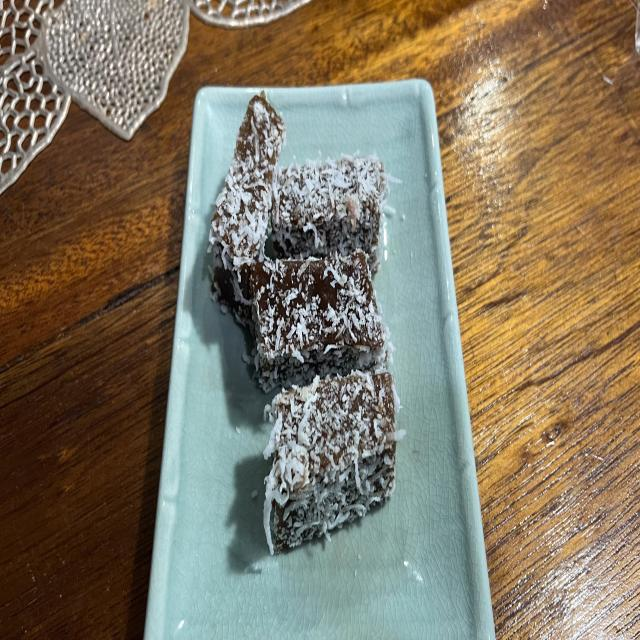kaswi: (264, 371, 404, 553), (250, 251, 385, 391), (209, 91, 286, 327), (270, 153, 389, 276)
